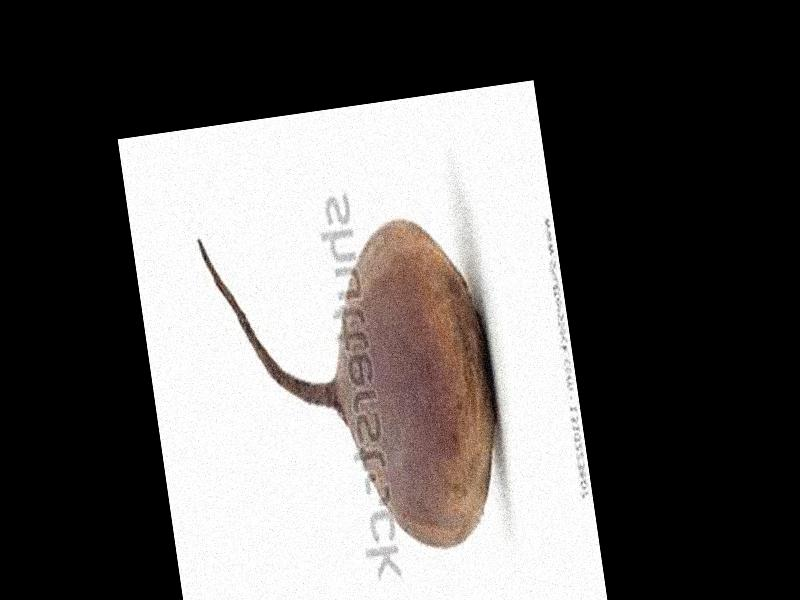Beet: (197, 201, 516, 580)
